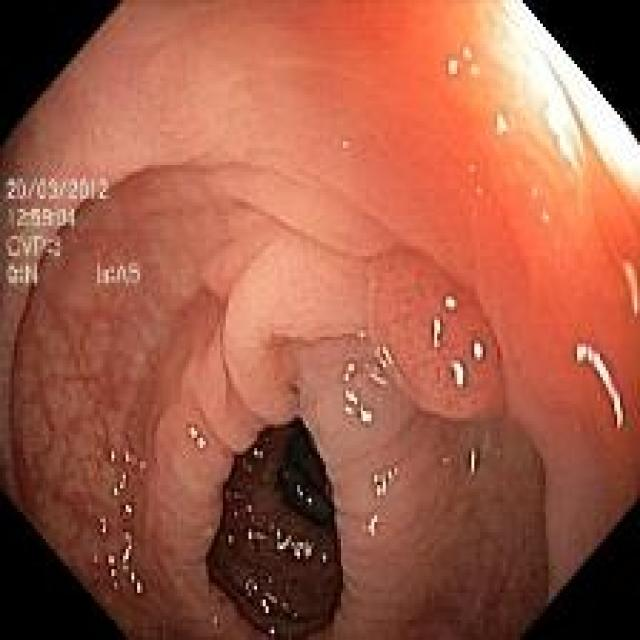Polyps: (369, 248, 508, 420)
